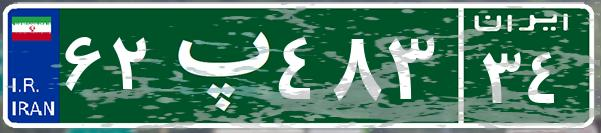2: (110, 28, 158, 105)
3: (385, 28, 445, 110), (475, 38, 525, 113)
4: (273, 28, 330, 110), (525, 38, 570, 115)
6: (57, 26, 110, 107)
8: (330, 28, 385, 110)
پ: (158, 15, 273, 115)
